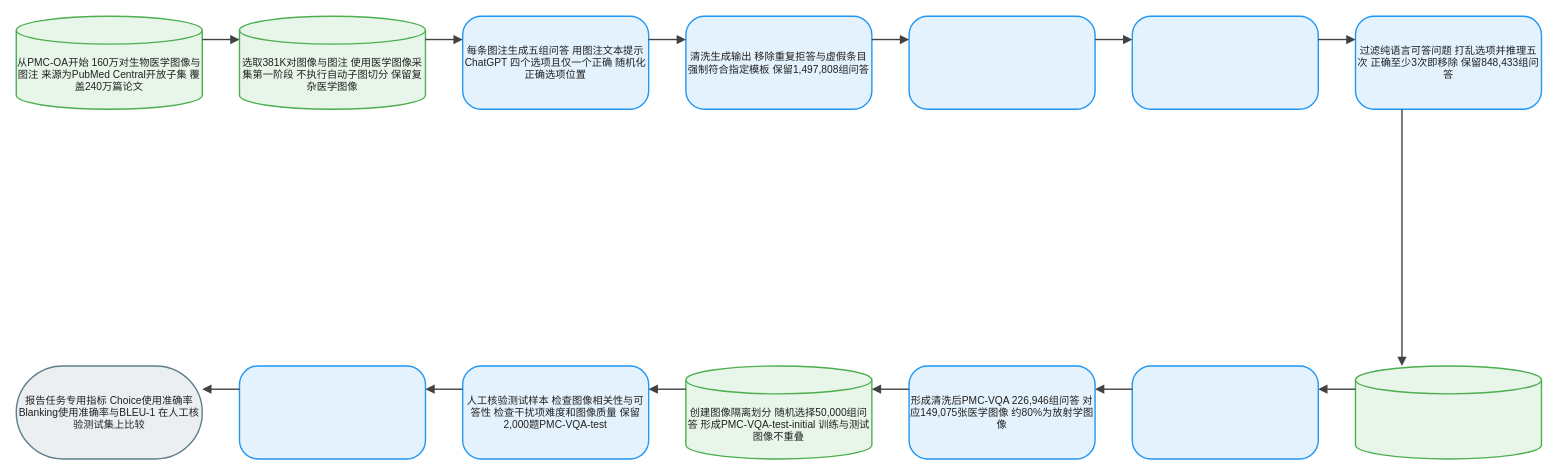
Image size: 1559x476. Some labels were removed from this diagram. The shapes that lost their labels are listed below. From the top down, each one's box as (x1, y1, x2, y2) in pixels, then its label:
(908, 15, 1095, 110): 把数据分成两半 避免文本过滤器自训练 在其中一半训练 到另一半执行推理
(1131, 15, 1319, 110): 训练纯文本LLaMA-7B 只输入问题与答案选项 不提供对应图像 学习生物医学语言捷径
(238, 365, 426, 459): 运行两类评测任务 Choice提供四个候选答案 Blanking不提供选项 生成A至D或自由文本
(1131, 365, 1319, 459): 训练问题分类器 准确率达到81.77% 识别仅依赖图注的信息 应用于剩余候选池
(1354, 365, 1542, 459): 标注图像可回答性 人工标注2,192组问答 1,752训练 · 440测试 使用二元图像可答标签
